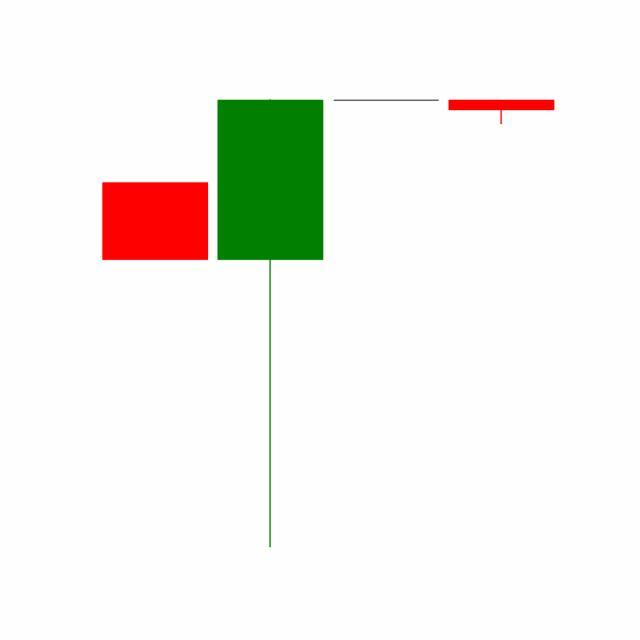Hanging Man: (444, 99, 560, 125)
